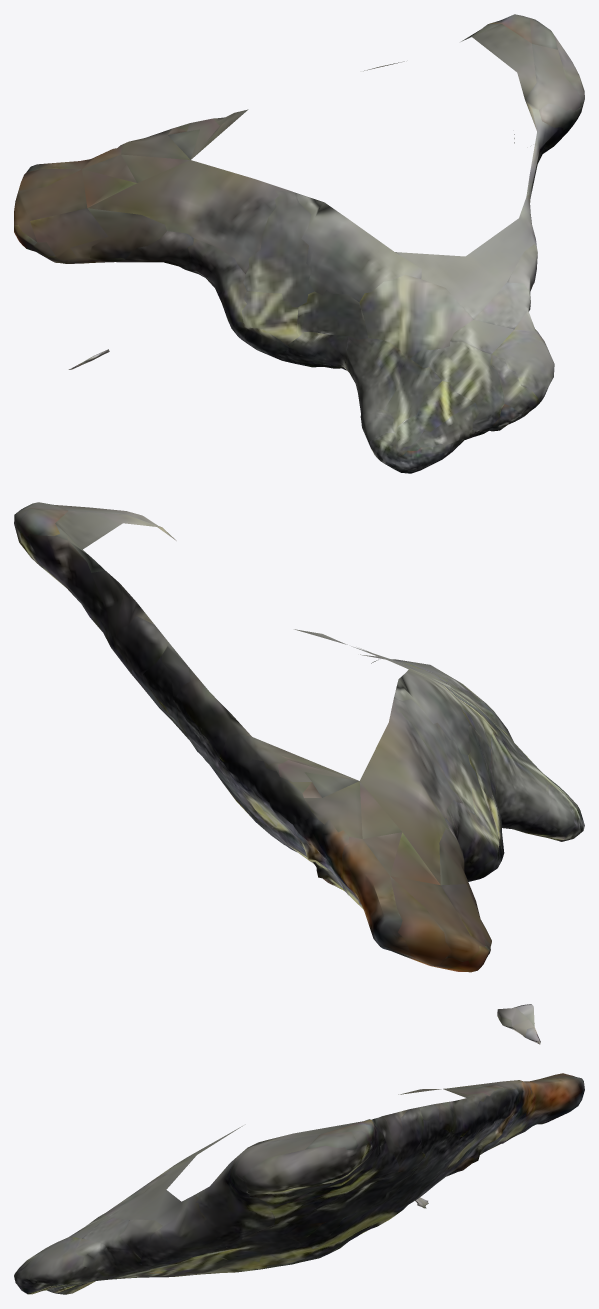
The model's file is hall.glb.
The picture shows the model from 3 angles, top to bottom: view 1: azimuth 30°, elevation 25°; view 2: azimuth 150°, elevation 25°; view 3: azimuth 270°, elevation 25°; orthographic projection. The views are drawn at different scales.
Bounding box in the file's own units: 1.02 × 0.6349 × 1.12.
Materials: 1 (1 with a texture image).
